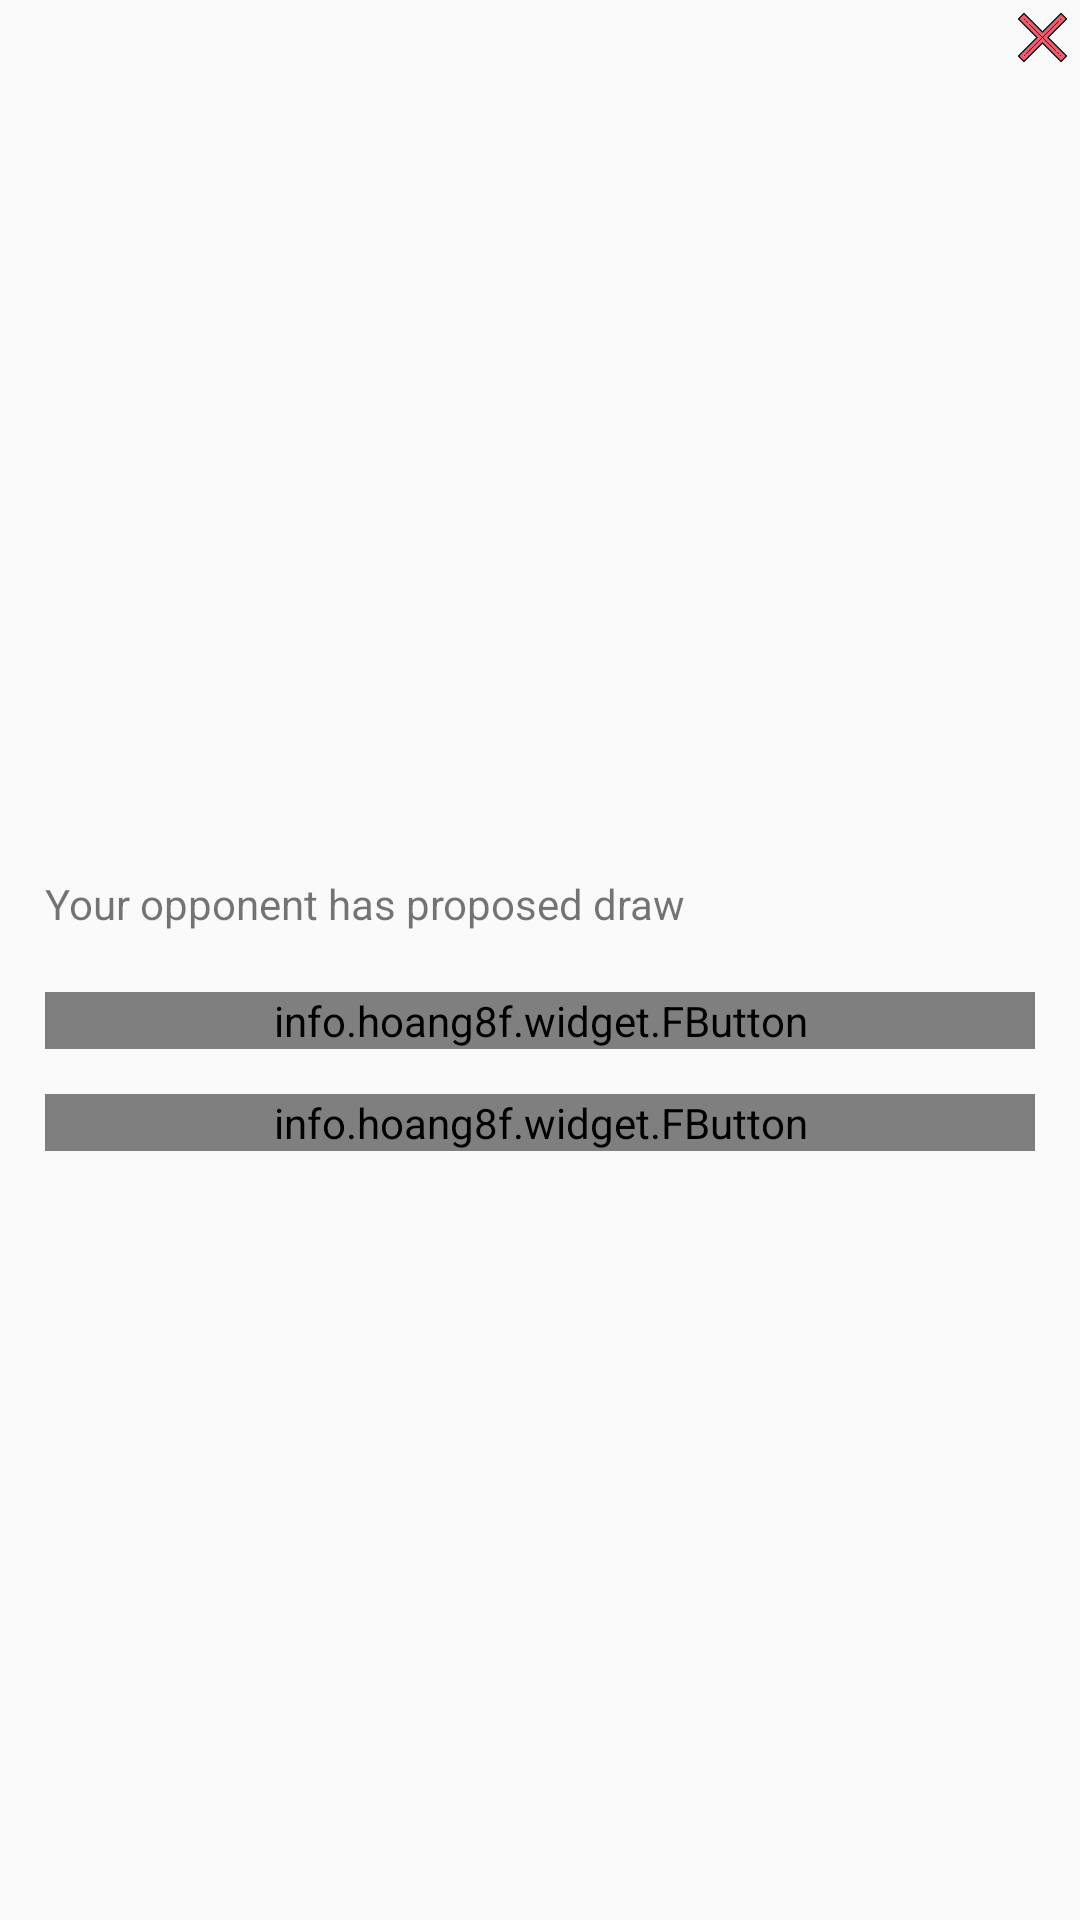

Point at icon controls on the screen. Image size 1080 × 1920, points as (x=x, y=y).
close: (x=1042, y=37)
